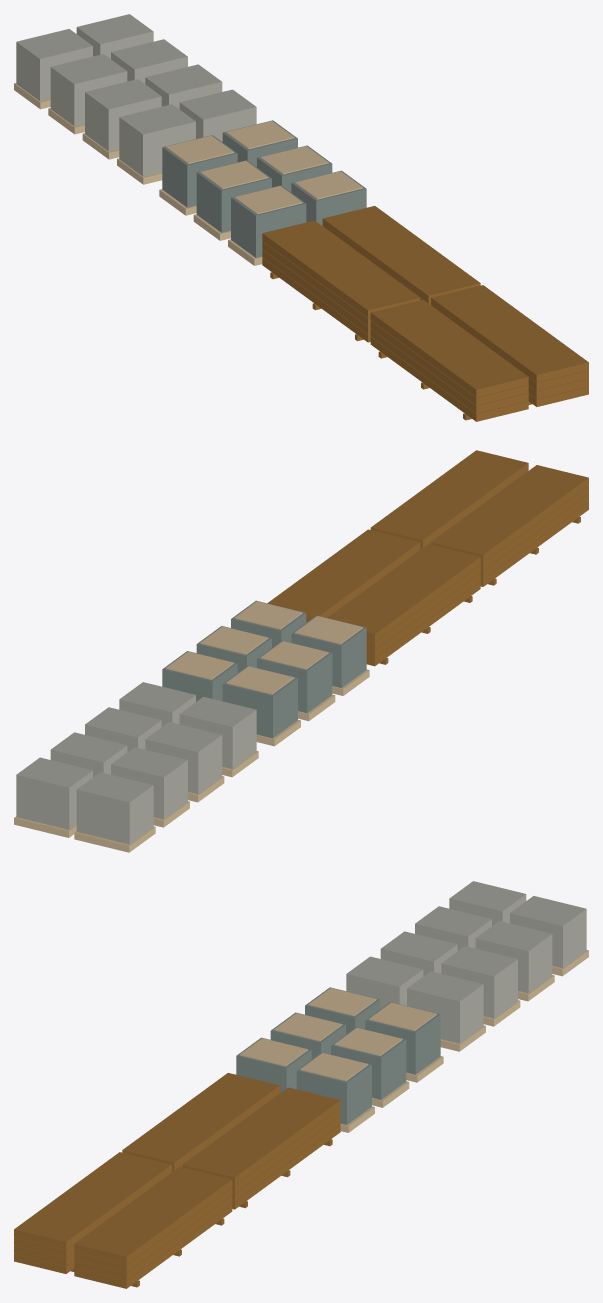
File: SM_CargaMateriales_Lleno_LOD1.fbx
3 renders of one model, top to bottom at view 1: azimuth 30°, elevation 25°; view 2: azimuth 150°, elevation 25°; view 3: azimuth 330°, elevation 25°, orthographic.
Parts seen in each view (by area): view 1: SM_carga_vagon_v10_LOD1; view 2: SM_carga_vagon_v10_LOD1; view 3: SM_carga_vagon_v10_LOD1.
Part boxes in pixels (left/top/right/bottom): SM_carga_vagon_v10_LOD1: left=14, top=14, right=588, bottom=421; SM_carga_vagon_v10_LOD1: left=14, top=450, right=588, bottom=852; SM_carga_vagon_v10_LOD1: left=14, top=881, right=588, bottom=1288.
Bounding box in the file's own units: 2.52 × 1.04 × 17.45.
